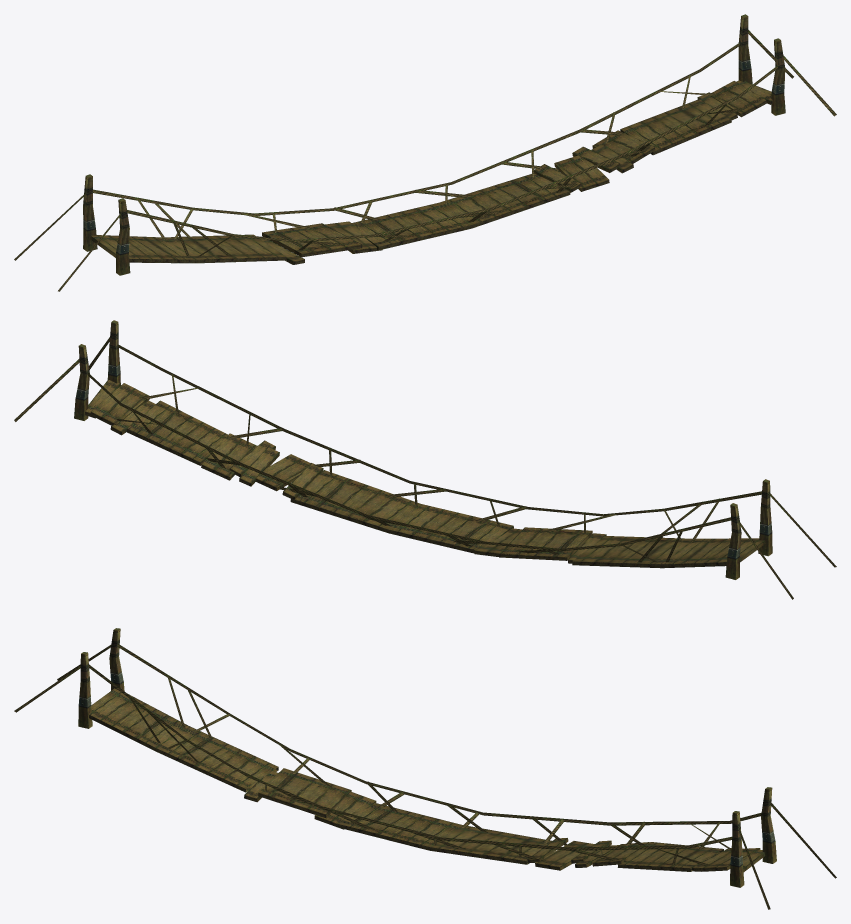
Rendered from hyc_qiao.FBX.
The picture shows the model from 3 angles, top to bottom: view 1: azimuth 30°, elevation 25°; view 2: azimuth 150°, elevation 25°; view 3: azimuth 330°, elevation 25°; orthographic projection.
Visible parts, largest first — view 1: hyc_qiao; view 2: hyc_qiao; view 3: hyc_qiao.
Part boxes in pixels (x1=…): hyc_qiao: x1=14, y1=14, x2=836, y2=291; hyc_qiao: x1=14, y1=320, x2=836, y2=599; hyc_qiao: x1=14, y1=628, x2=836, y2=909.
Size of the model in its own units: 4303 by 607 by 522.
